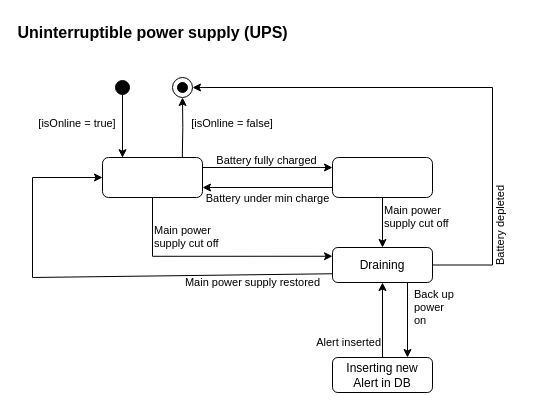
This 534x410 diagram has some shape labels left out. Each missing label, with the centre of its shape:
Charging: the point at 152,177
Idling: the point at 382,177
